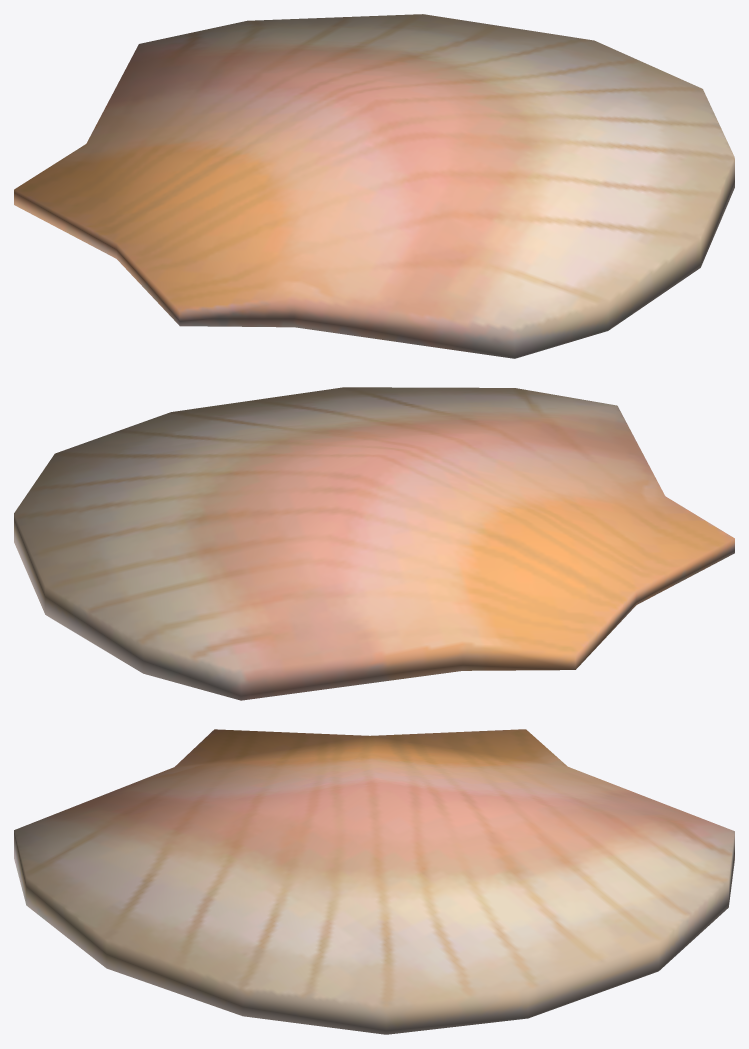
File: P_Beach_Scallop.obj
3 renders of one model, top to bottom at view 1: azimuth 30°, elevation 25°; view 2: azimuth 150°, elevation 25°; view 3: azimuth 270°, elevation 25°, orthographic. The views are drawn at different scales.
Size of the model in its own units: 0.4779 by 0.118 by 0.5162.
